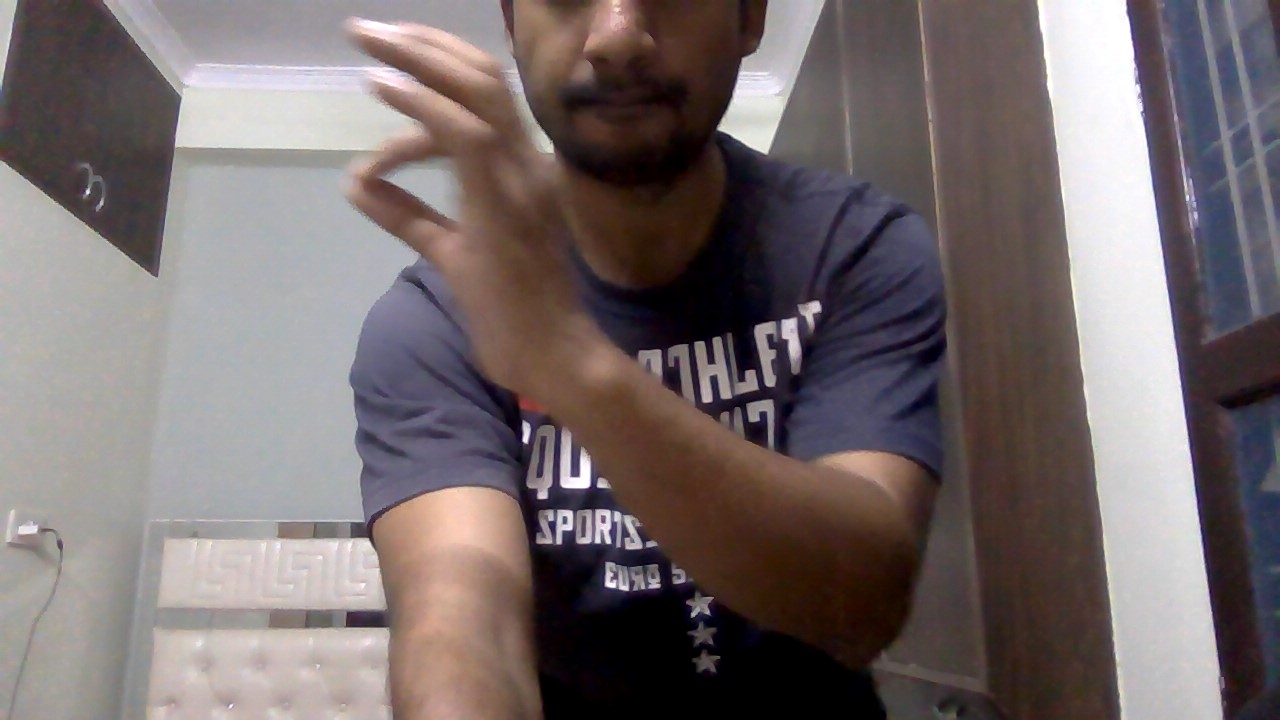Copy: (331, 13, 623, 416)
